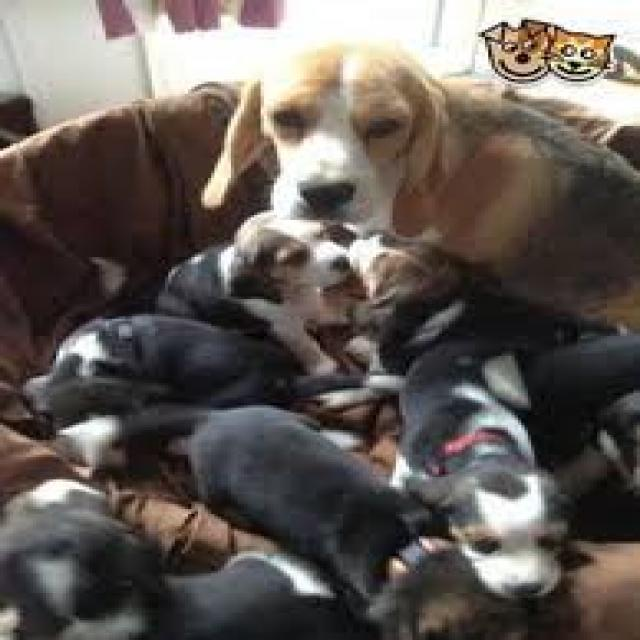Dog: (196, 46, 434, 232), (407, 461, 621, 605), (223, 205, 364, 308)
